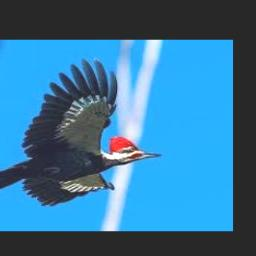Woodpecker: (0, 58, 161, 206)
